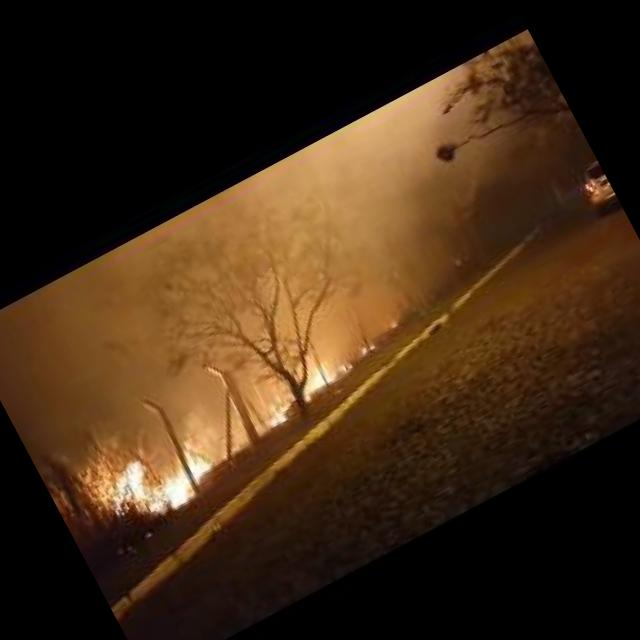fire: (106, 429, 221, 530), (291, 345, 356, 399), (260, 391, 298, 425), (359, 344, 373, 354)
